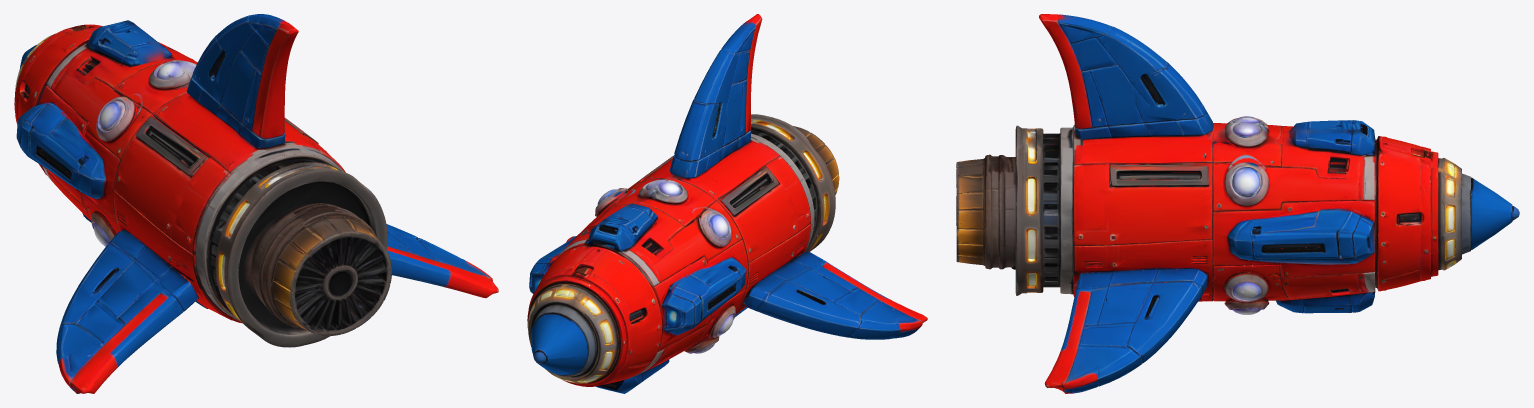
File: rocket.glb
The picture shows the model from 3 angles, left to right: view 1: azimuth 30°, elevation 25°; view 2: azimuth 150°, elevation 25°; view 3: azimuth 270°, elevation 25°; orthographic projection. The views are drawn at different scales.
Visible parts, largest first — view 1: node_0; view 2: node_0; view 3: node_0.
Part boxes in pixels (box(x1,y1,x2,y2)): node_0: box(14, 14, 498, 393); node_0: box(527, 14, 927, 393); node_0: box(956, 14, 1519, 393).
Bounding box in the file's own units: 12.42 × 9.17 × 16.
Materials: 1 (1 with a texture image).
